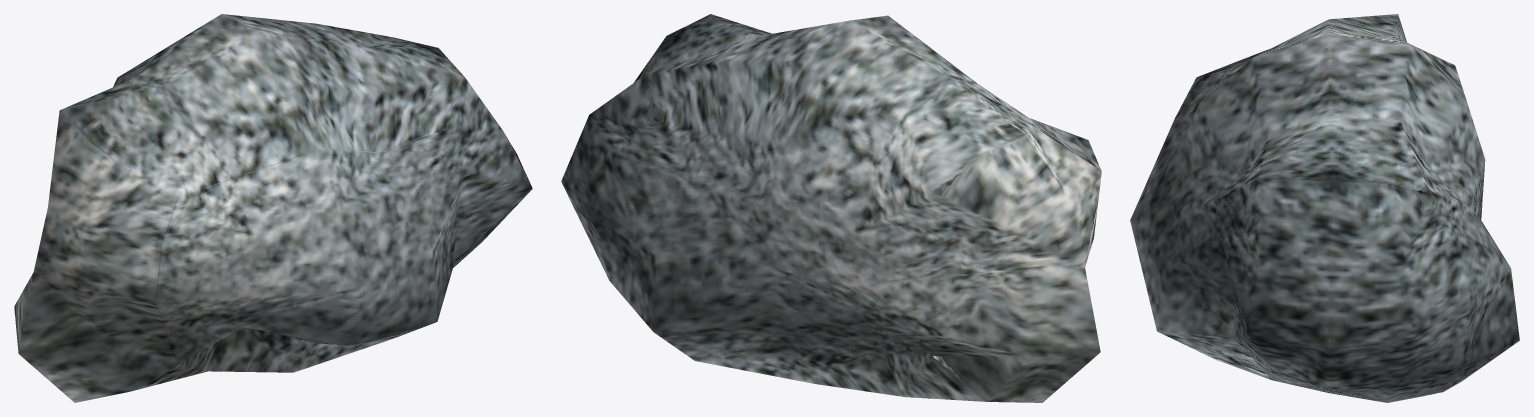
The model's file is asteroid.fbx.
3 renders of one model, left to right at view 1: azimuth 30°, elevation 25°; view 2: azimuth 150°, elevation 25°; view 3: azimuth 270°, elevation 25°, orthographic. The views are drawn at different scales.
Parts seen in each view (by area): view 1: asteroid; view 2: asteroid; view 3: asteroid.
Part boxes in pixels (x1=…): asteroid: x1=14, y1=14, x2=532, y2=402; asteroid: x1=561, y1=14, x2=1101, y2=402; asteroid: x1=1130, y1=14, x2=1519, y2=402.
Size of the model in its own units: 2.6 by 1.66 by 1.74.
Materials: 1 (1 with a texture image).
